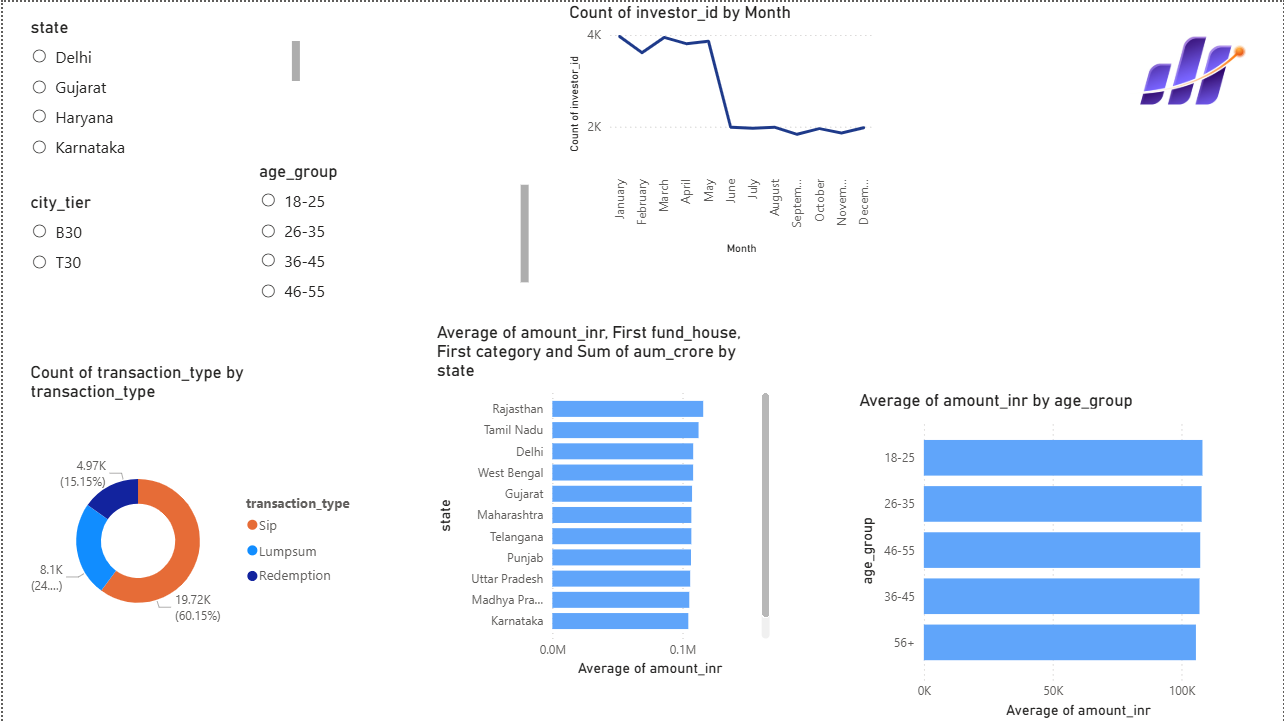

Layout of this report page (visuals, bound fields, positions):
{"tool":"powerbi","page":{"name":"Investor Analytics","canvas":[1280,720],"ordinal":2},"visuals":[{"type":"barChart","fields":{"Category":["investor_transactions_clean.state"],"Y":["Avg(investor_transactions_clean.amount_inr)"]},"box":[428.1,319.7,343.1,359.5],"z":0},{"type":"donutChart","fields":{"Category":["investor_transactions_clean.transaction_type"],"Y":["CountNonNull(investor_transactions_clean.transaction_type)"]},"box":[22,359.5,333.4,319.7],"z":1000},{"type":"barChart","fields":{"Category":["investor_transactions_clean.age_group"],"Y":["Avg(investor_transactions_clean.amount_inr)"]},"box":[850.8,387,397.9,333.4],"z":2000},{"type":"lineChart","fields":{"Y":["CountNonNull(investor_transactions_clean.investor_id)"],"Category":["investor_transactions_clean.transaction_date.Variation.Date Hierarchy.Month"]},"box":[561,0,313.5,257.5],"z":3000},{"type":"listSlicer","fields":{"Values":["investor_transactions_clean.state"]},"box":[22,15.1,279.9,150.9],"z":4000},{"type":"listSlicer","fields":{"Values":["investor_transactions_clean.age_group"]},"box":[251.3,159.2,279.9,150.5],"z":5000},{"type":"listSlicer","fields":{"Values":["investor_transactions_clean.city_tier"]},"box":[22.4,190.3,182.9,119.4],"z":6000},{"type":"image","box":[1097.2,0,182.9,138.1],"z":7000}]}

Visuals, with their boxes in screenshot pixels (x1, y1, x2, y2), scaled from the page's 1280x720 canvas onto the 1284x721 screenshot:
barChart - investor_transactions_clean.state x Avg(investor_transactions_clean.amount_inr): (left=429, top=320, right=774, bottom=680)
donutChart - investor_transactions_clean.transaction_type x CountNonNull(investor_transactions_clean.transaction_type): (left=22, top=360, right=357, bottom=680)
barChart - investor_transactions_clean.age_group x Avg(investor_transactions_clean.amount_inr): (left=853, top=388, right=1253, bottom=720)
lineChart - CountNonNull(investor_transactions_clean.investor_id) x investor_transactions_clean.transaction_date.Variation.Date Hierarchy.Month: (left=563, top=0, right=877, bottom=258)
listSlicer - investor_transactions_clean.state: (left=22, top=15, right=303, bottom=166)
listSlicer - investor_transactions_clean.age_group: (left=252, top=159, right=533, bottom=310)
listSlicer - investor_transactions_clean.city_tier: (left=22, top=191, right=206, bottom=310)
image: (left=1101, top=0, right=1283, bottom=138)
